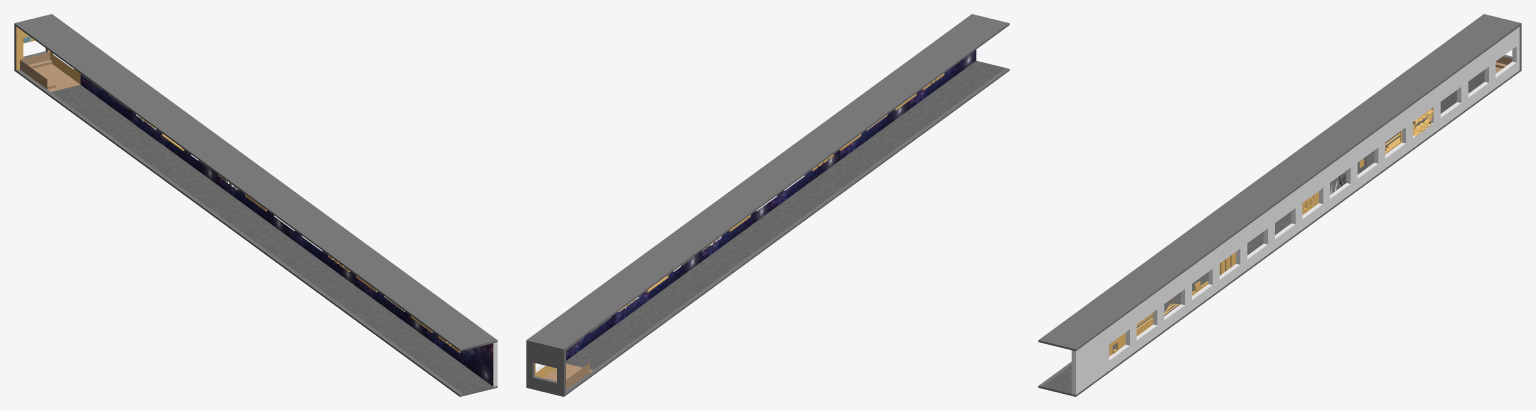
Rendered from design4.glb.
3 views of the same model, side by side, from view 1: azimuth 30°, elevation 25°; view 2: azimuth 150°, elevation 25°; view 3: azimuth 330°, elevation 25° (orthographic).
Parts seen in each view (by area): view 1: object 3, object 7, dss, Nort ele wall.dwg, Eastwall ele.dwg; view 2: object 3, object 7, dss, Eastwall ele.dwg; view 3: object 3, Nort ele wall.dwg, object 7, dss.
Boxes of the visible parts, bbox=[...] form: object 3: bbox=[14, 14, 497, 351]; object 7: bbox=[14, 64, 497, 396]; dss: bbox=[80, 75, 493, 386]; Nort ele wall.dwg: bbox=[50, 51, 497, 386]; Eastwall ele.dwg: bbox=[14, 25, 49, 70]; object 3: bbox=[526, 14, 1009, 351]; object 7: bbox=[526, 60, 1009, 396]; dss: bbox=[566, 50, 976, 360]; Eastwall ele.dwg: bbox=[526, 342, 565, 394]; object 3: bbox=[1038, 14, 1521, 351]; Nort ele wall.dwg: bbox=[1071, 27, 1519, 394]; object 7: bbox=[1038, 67, 1521, 396]; dss: bbox=[1109, 156, 1366, 356].
Size of the model in its own units: 3.15 by 3.8 by 64.55.
Materials: 8 (3 with a texture image).
